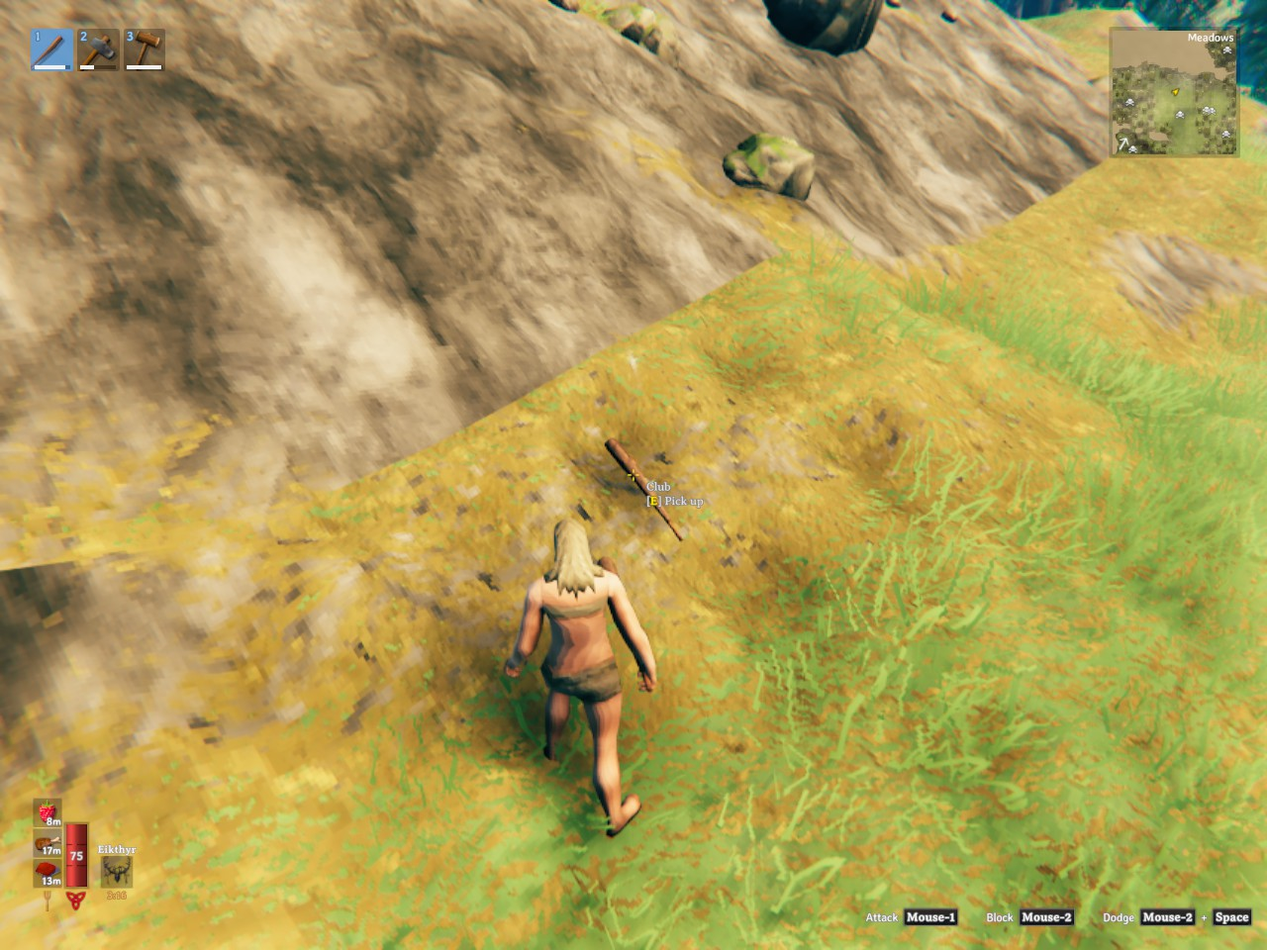Club: (607, 439, 656, 501), (661, 511, 682, 539)
Food Indicator: (36, 797, 63, 891)
Health Bar: (63, 820, 90, 891)
Hotbar: (25, 21, 398, 78)
